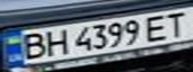3: (90, 21, 112, 51)
4: (72, 24, 93, 53)
9: (121, 17, 148, 46), (106, 19, 127, 48)
B: (15, 29, 51, 61)
E: (139, 11, 175, 42)
H: (42, 27, 72, 56)
T: (160, 9, 193, 37)
